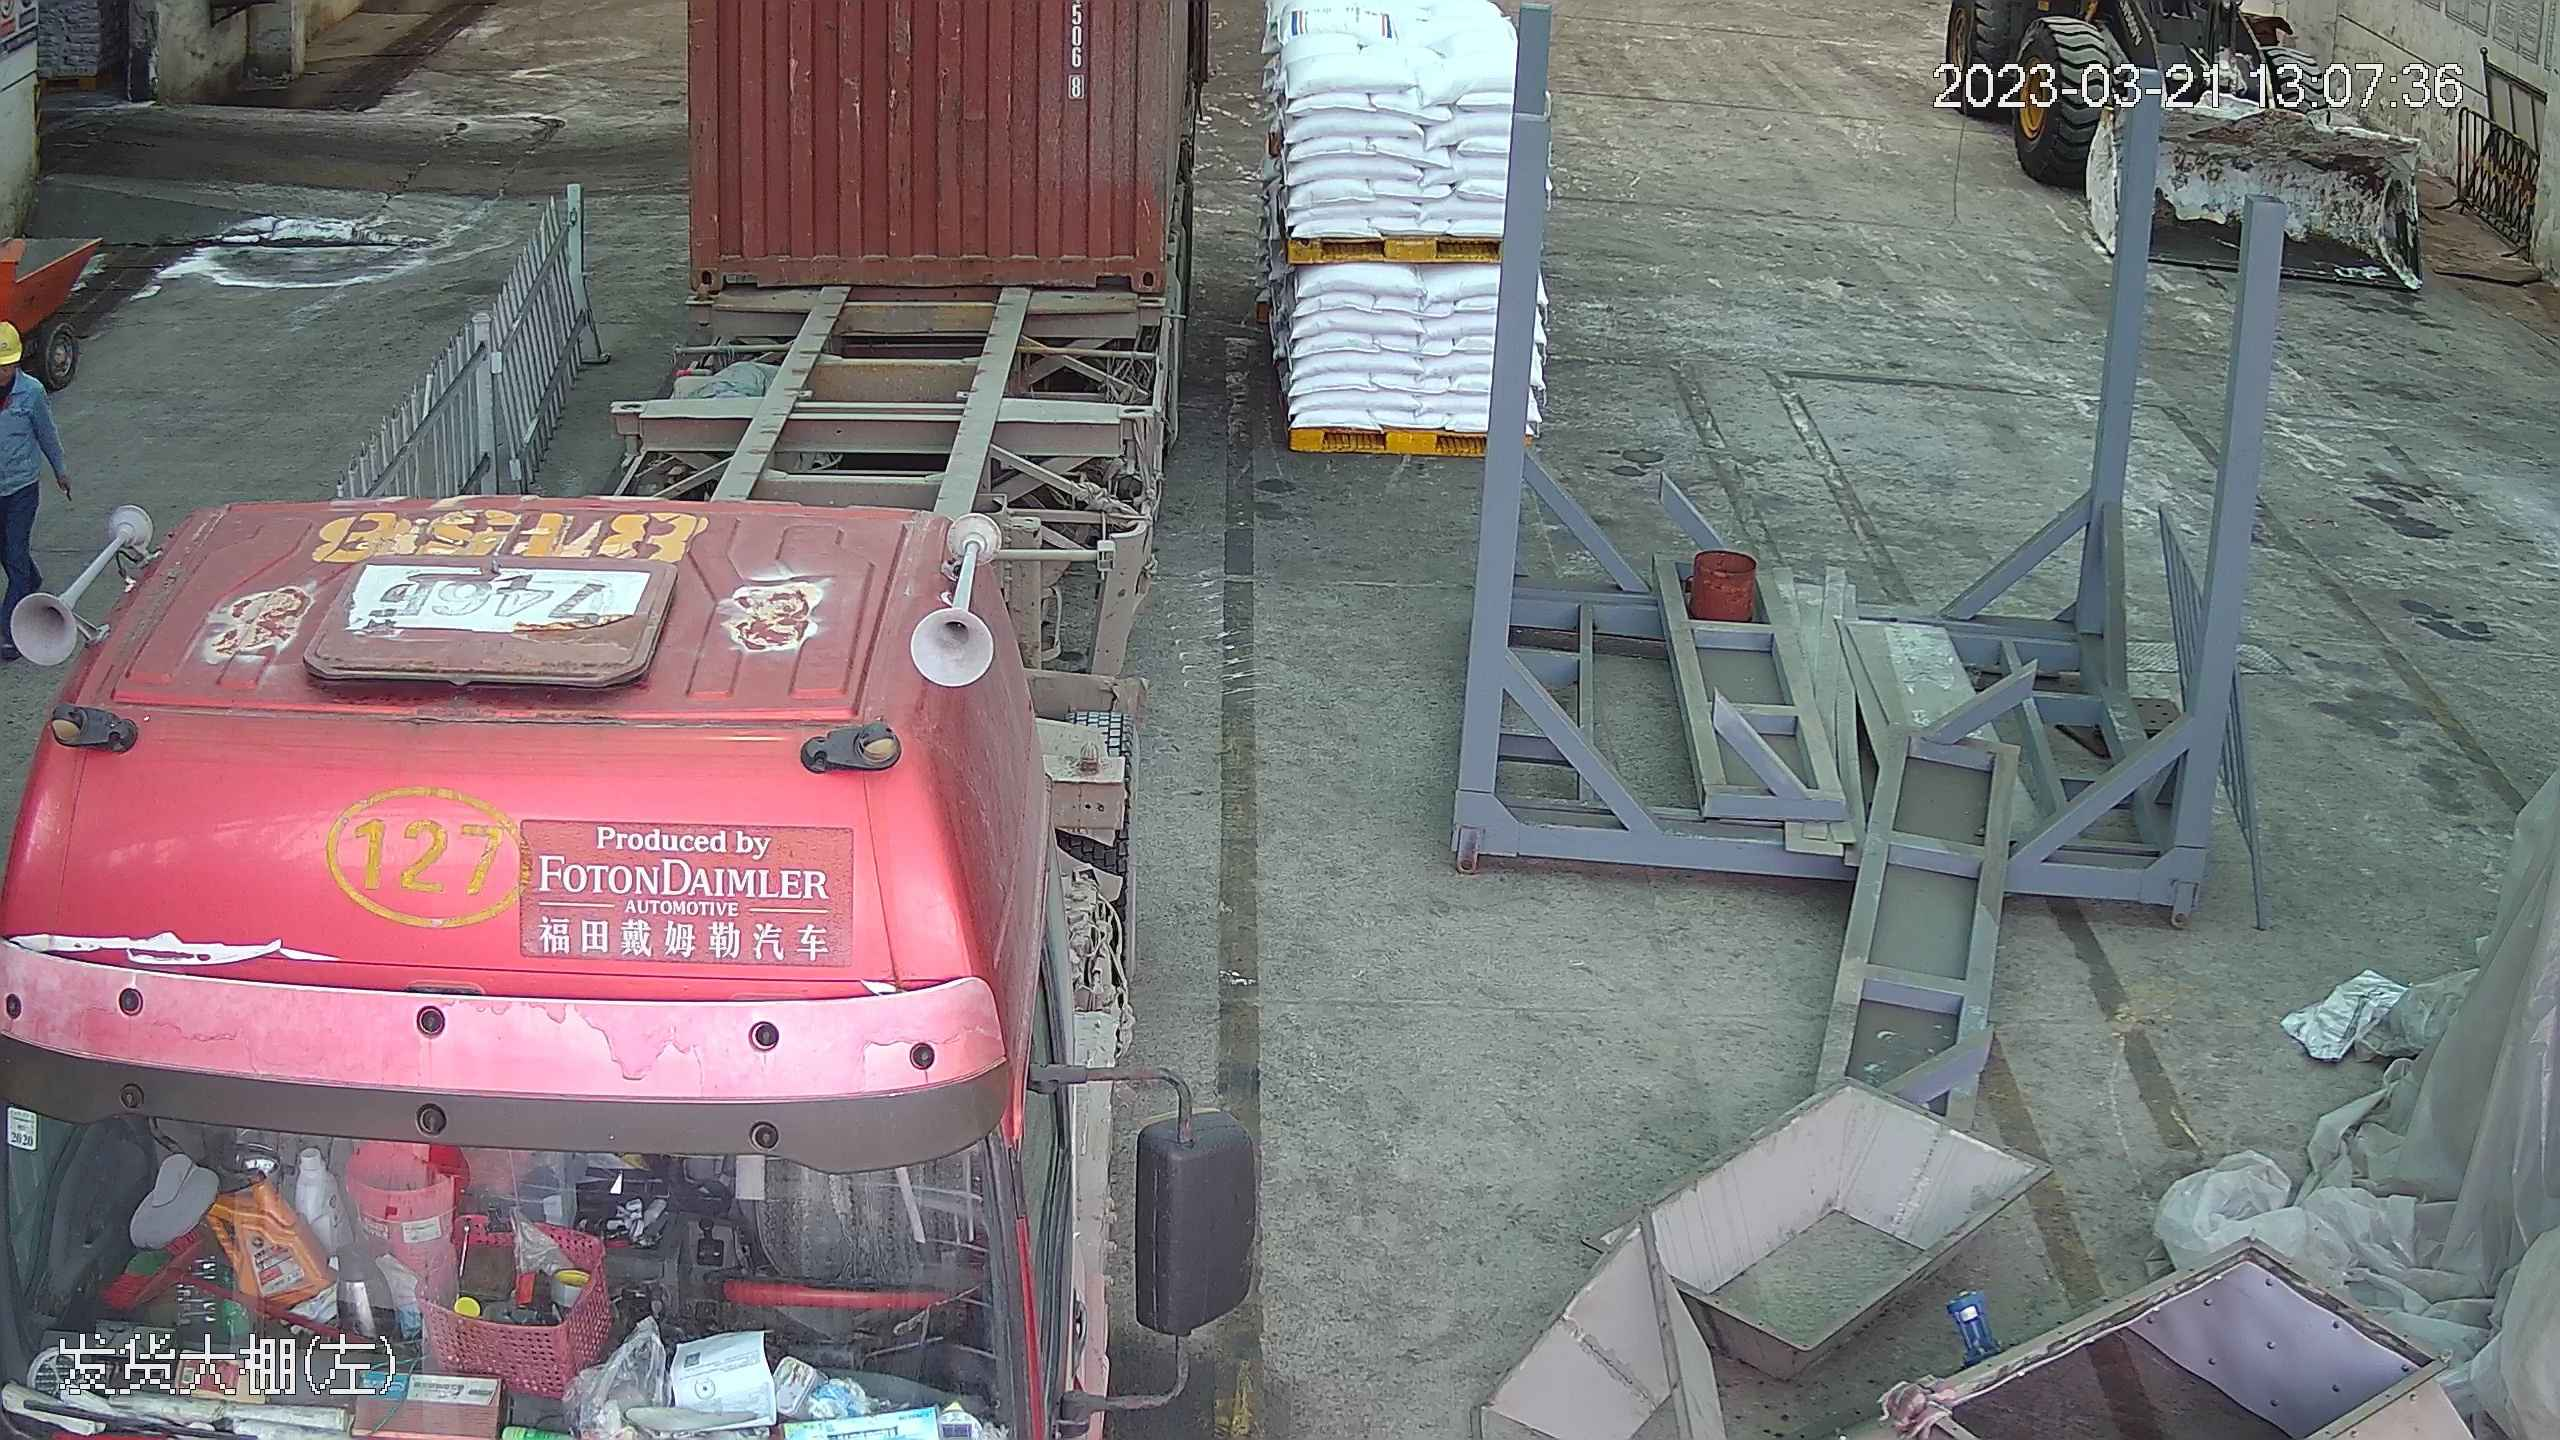helmet: (1, 312, 22, 361)
people: (1, 306, 68, 671)
truck: (1, 1, 1175, 1440)
